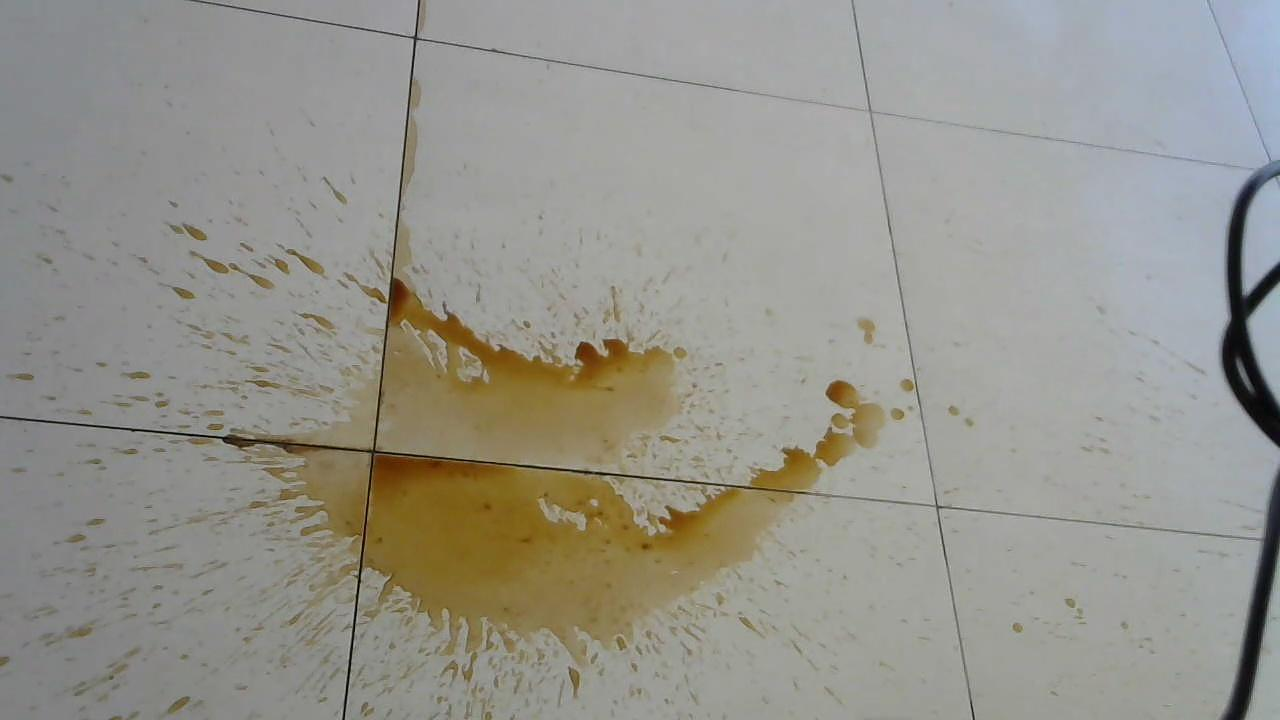dirty_floor: (112, 194, 933, 705)
